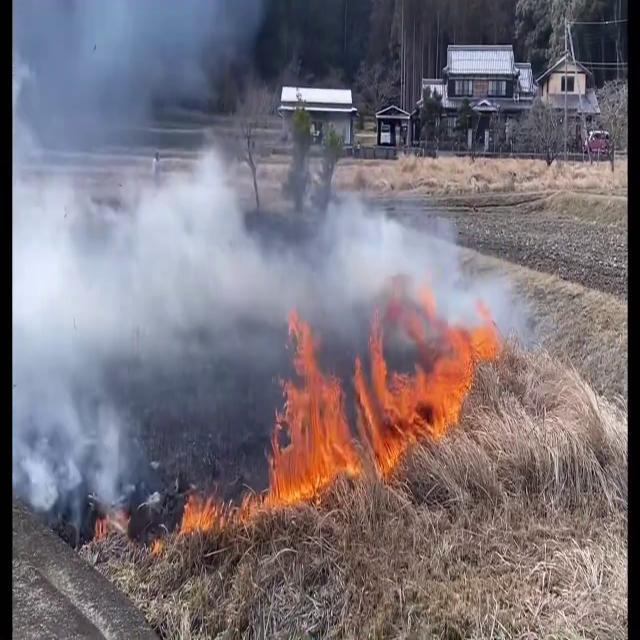Fire: (263, 306, 503, 494), (175, 475, 269, 545)
Smoke: (14, 4, 463, 516)
